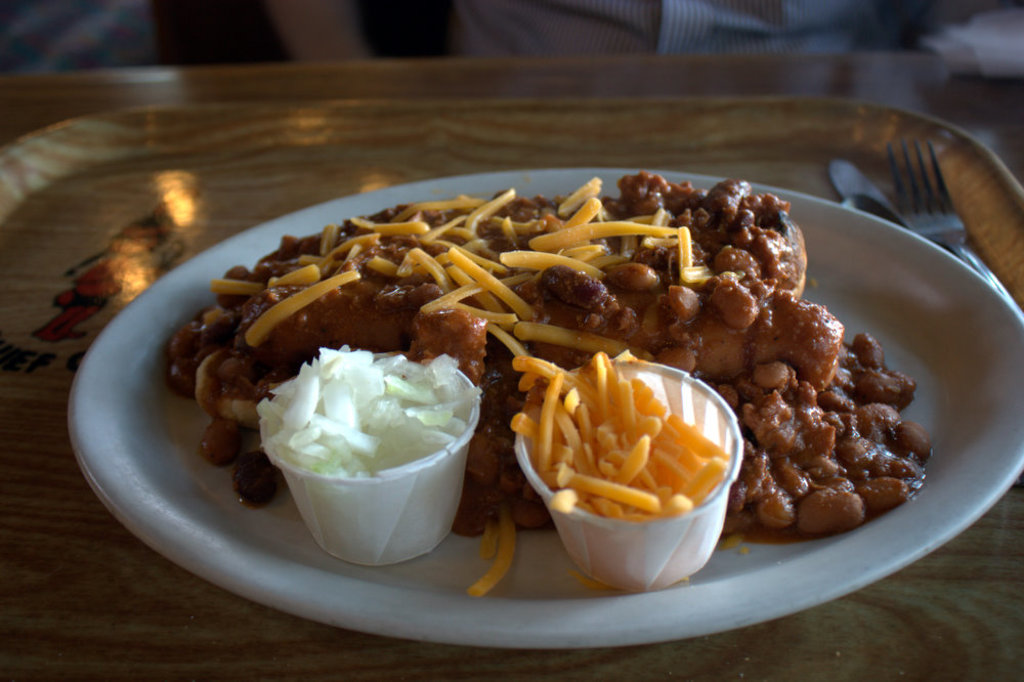French fries: (212, 177, 708, 358), (514, 361, 736, 552), (467, 514, 512, 598), (477, 520, 498, 555)
